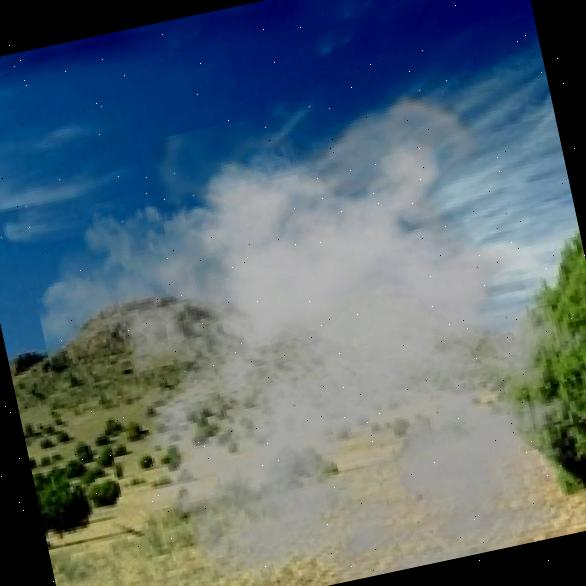smoke: (8, 56, 586, 586)
